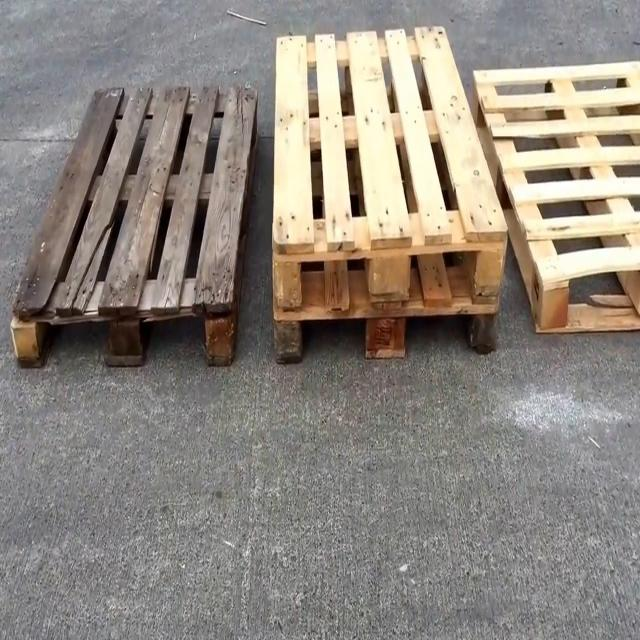Palette: (266, 25, 507, 363), (6, 76, 262, 382), (475, 54, 640, 342)
